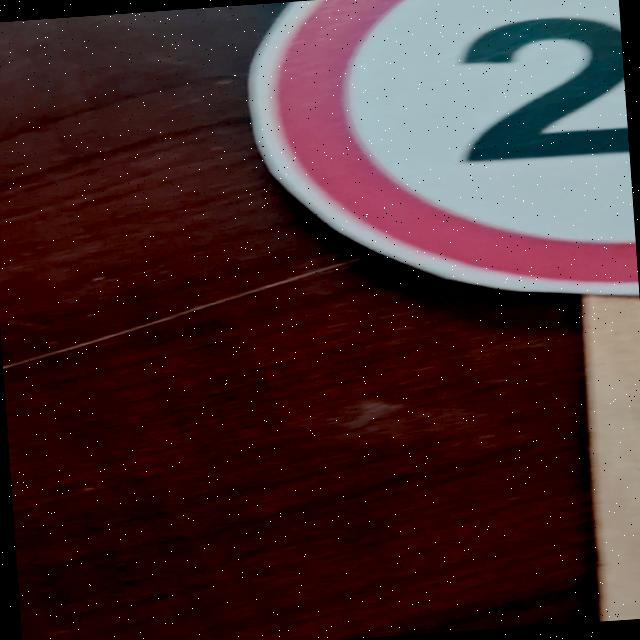Speed20: (192, 0, 640, 336)
